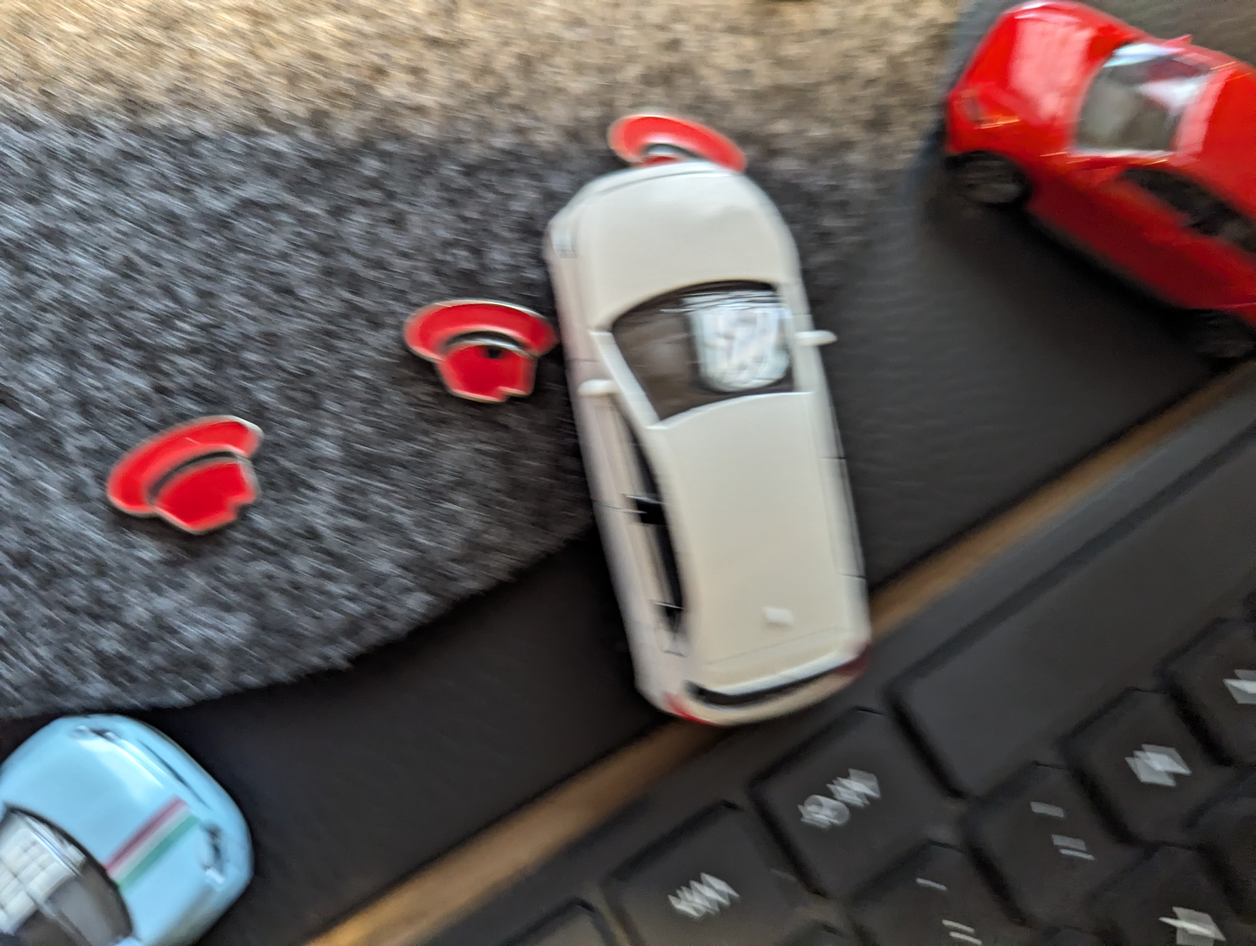Car: (520, 132, 906, 745), (913, 0, 1256, 336)
Red-Hat: (92, 400, 284, 545), (380, 282, 564, 406), (595, 91, 782, 208)
Scratch: (473, 332, 521, 365)
